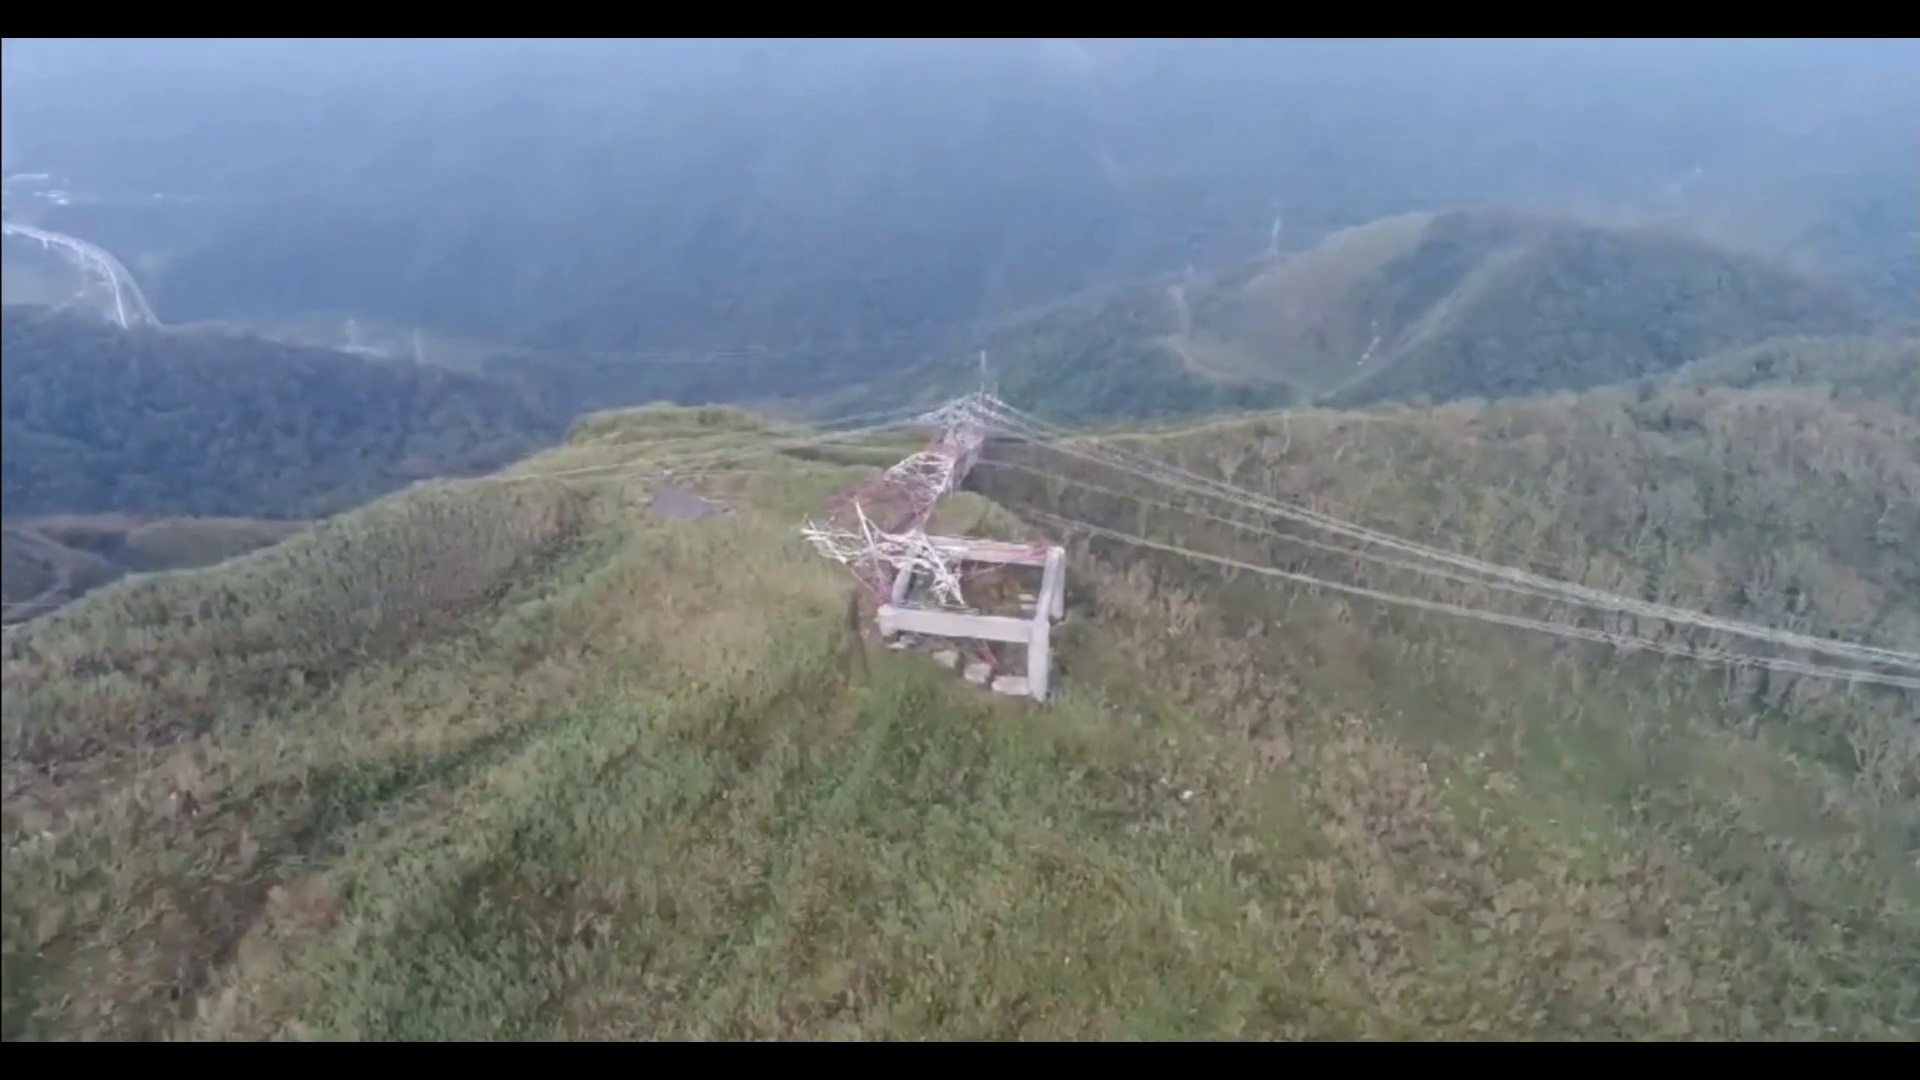tower_down: (804, 349, 1031, 613)
